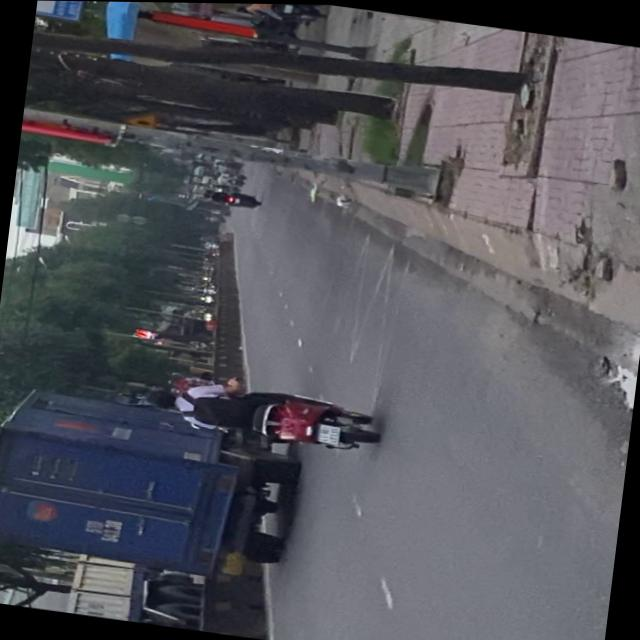licenseplate: (136, 369, 384, 458)
motorcyclist: (140, 386, 178, 411)
nohelmet: (316, 423, 338, 441)
